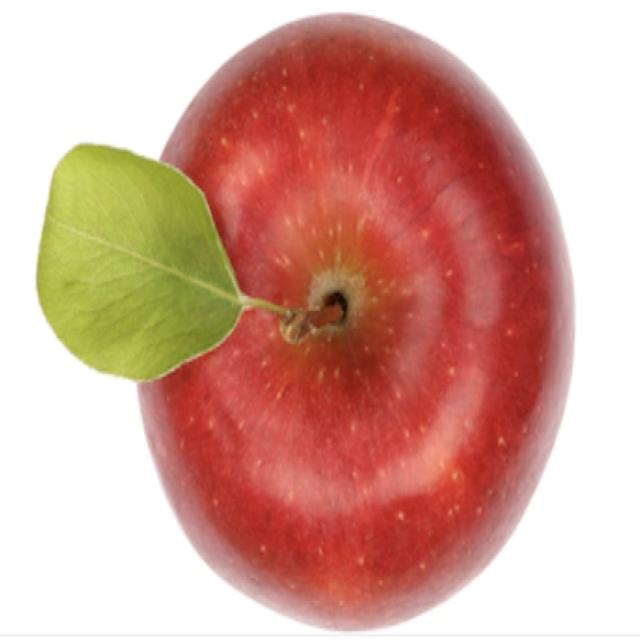apple: (139, 16, 574, 629)
